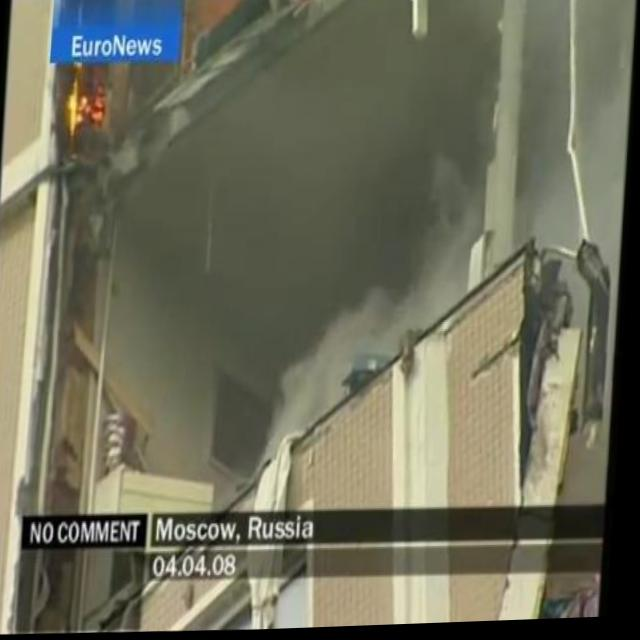fire: (61, 62, 114, 140)
